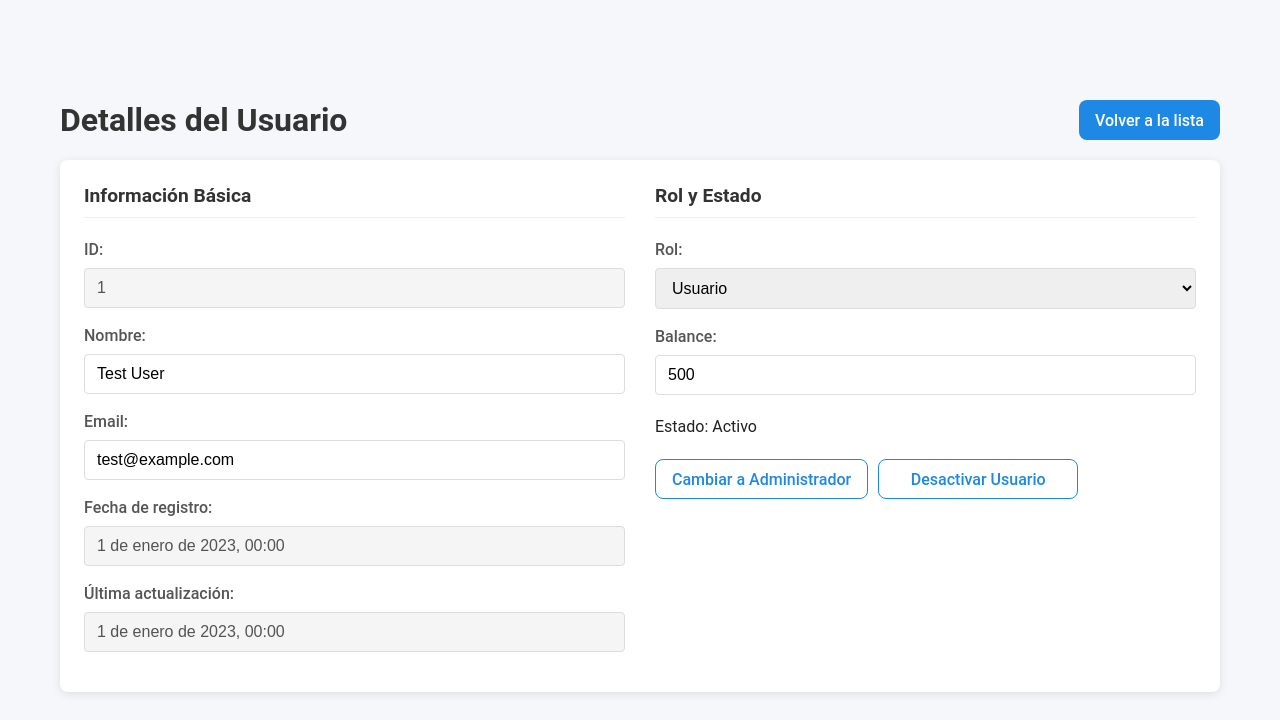
Test: UserDetail Component › deactivates user when clicking on deactivate button
// Desactivar el usuario
Step 1. Click the button "Desactivar Usuario" → {"x": 978, "y": 479}, box [878, 459, 1078, 499]
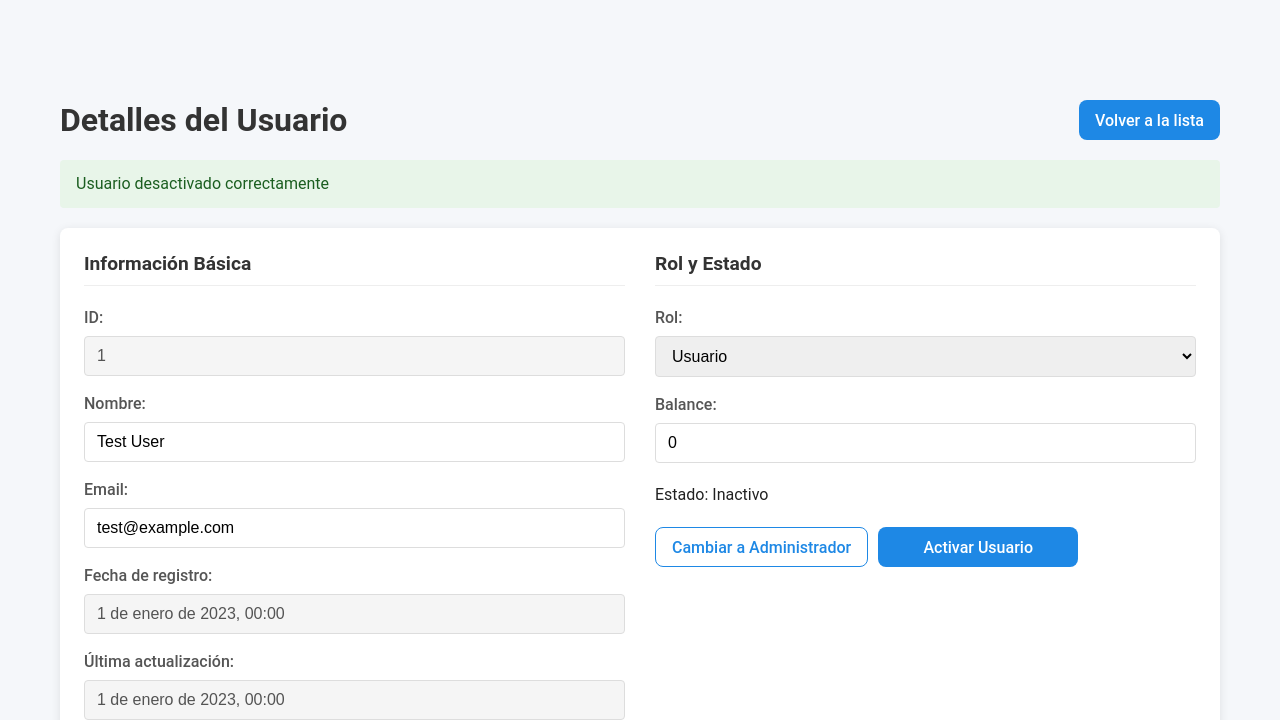
Check: the text "Usuario desactivado correctamente" is shown, box [60, 160, 1220, 208]
